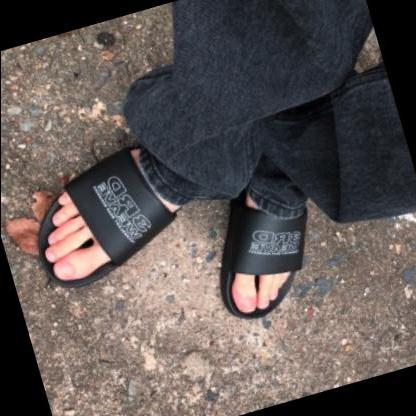no_safety-shoe: (5, 131, 211, 301), (188, 166, 343, 344)
